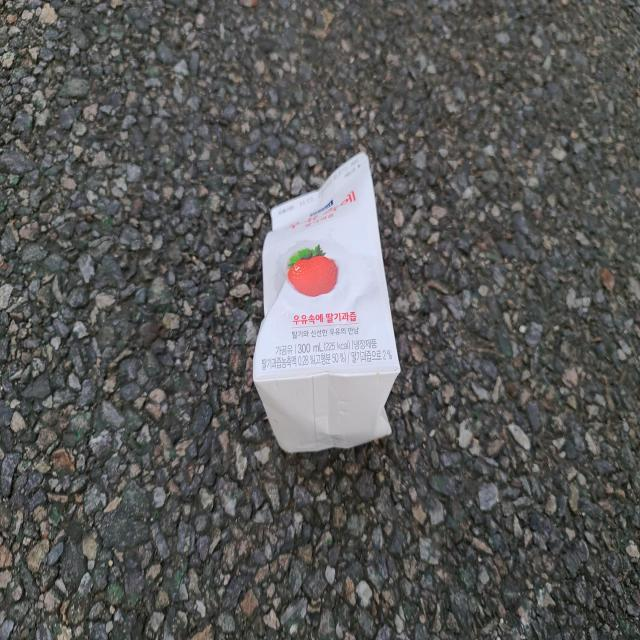paperpack: (253, 152, 400, 452)
